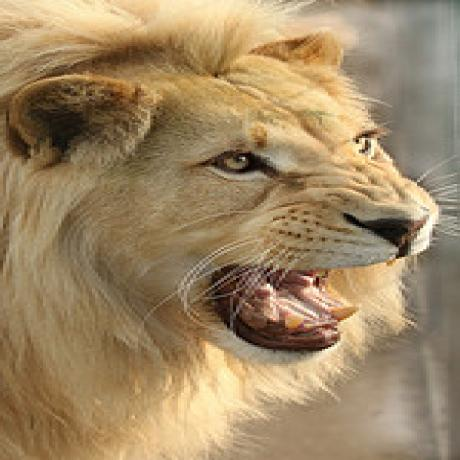Lion: (0, 0, 454, 460)
